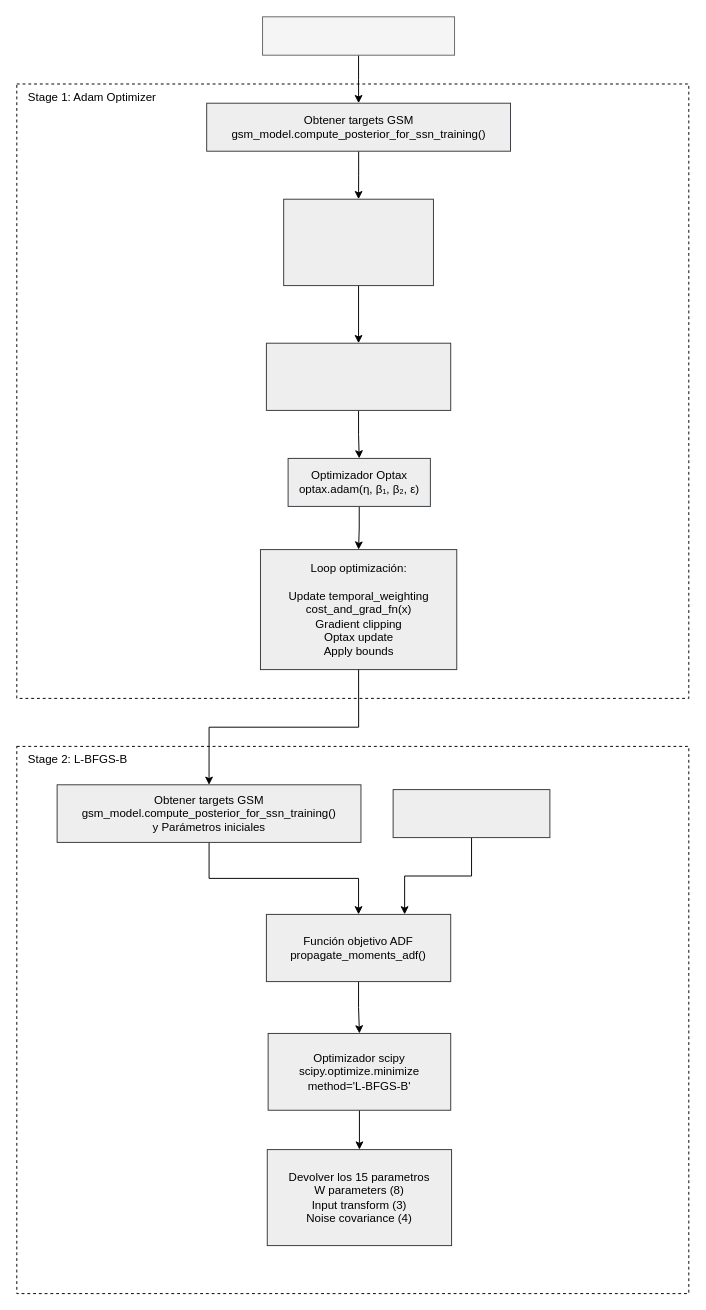
This 706x1310 diagram has some shape labels left out. The box of each missing label's shape, as (x1, y1, x2, y2) in pixels:
create_objective_function(): (392, 789, 550, 838)
Función de costo compute_cost_and_grad(): (265, 342, 451, 410)
Parámetros iniciales build_w_from_params build_sigma_eta: (283, 198, 433, 286)
Validacion y pre-requisitos (gsm, filtros, prior, parametros): (262, 16, 455, 55)
